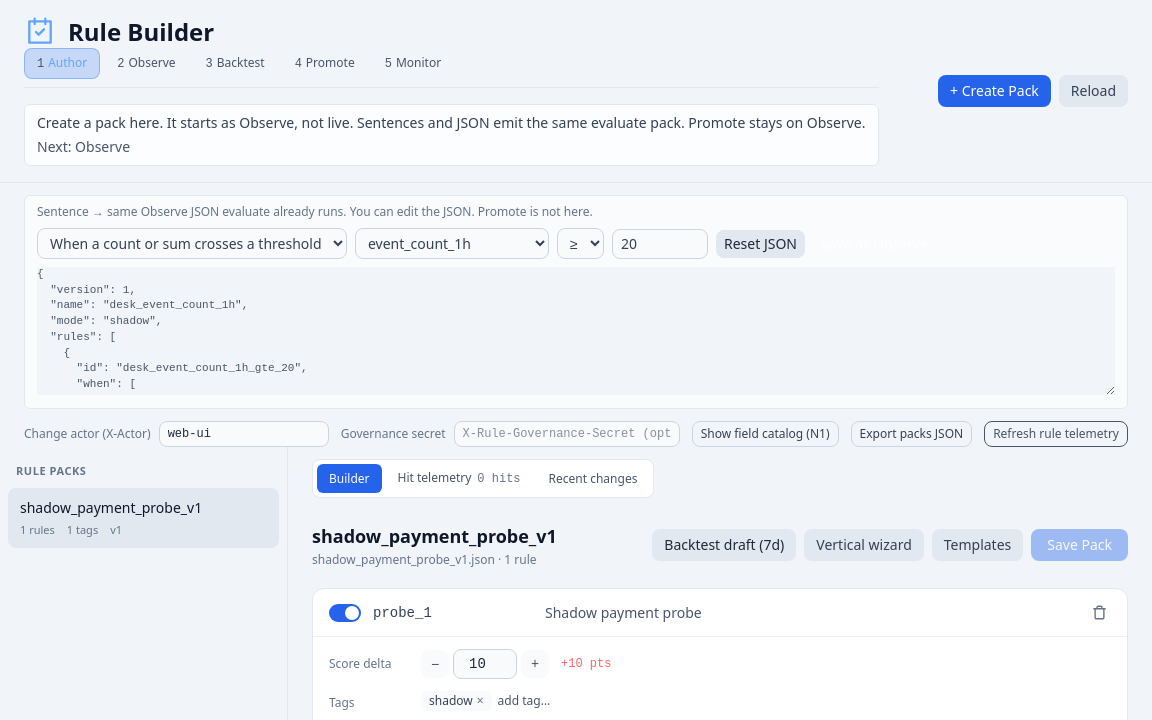
Rules workspace tabs › still exposes empty telemetry and changelog tabs when APIs return nothing
Expected: the heading "shadow_payment_probe_v1" is shown, x1=312 y1=522 x2=557 y2=550
Expected: the text "since API process start" is not shown
Click the tab "Hit telemetry0 hits": (459, 478) x1=386 y1=464 x2=532 y2=493
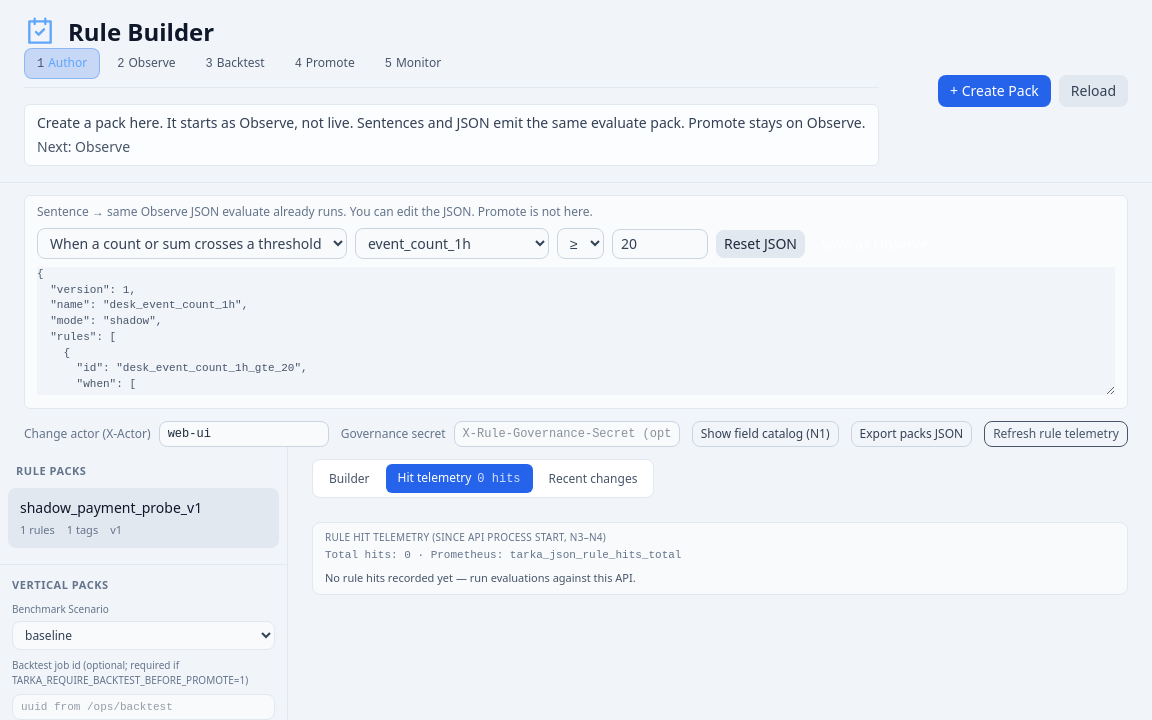
Now the text "No rule hits recorded yet" is shown, box x1=325 y1=570 x2=636 y2=585
Click the tab "Recent changes": (593, 478) x1=536 y1=464 x2=649 y2=493
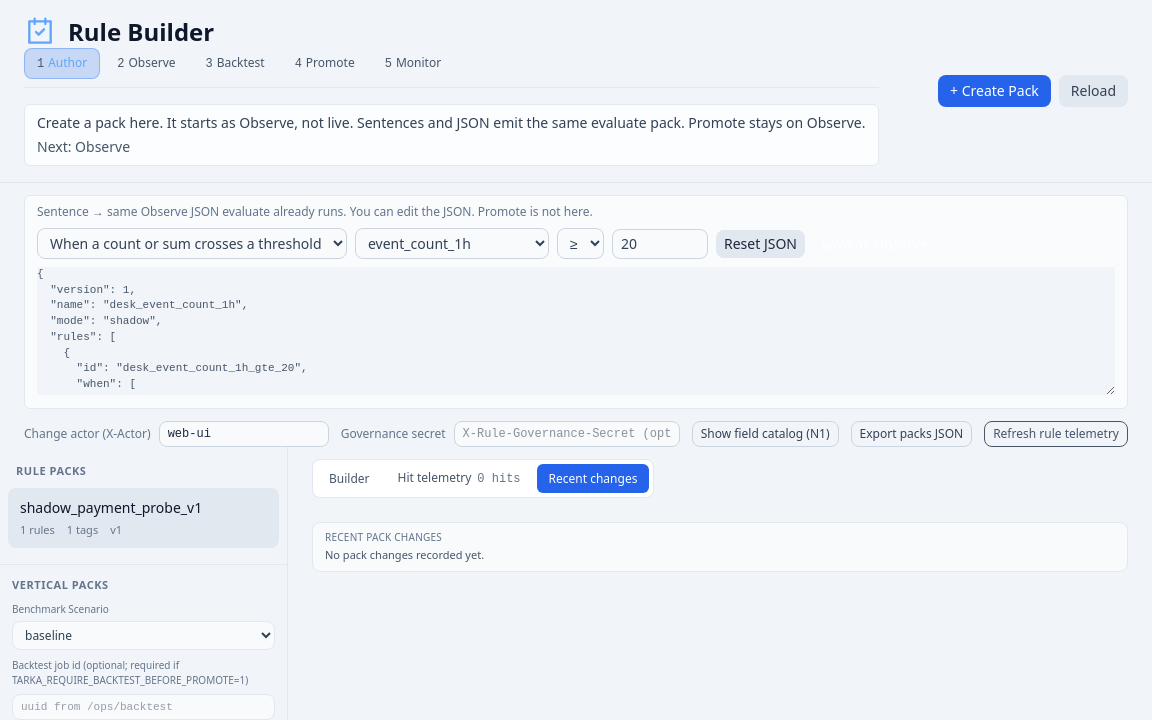
Now the text "No pack changes recorded yet." is shown, box x1=325 y1=547 x2=484 y2=562
